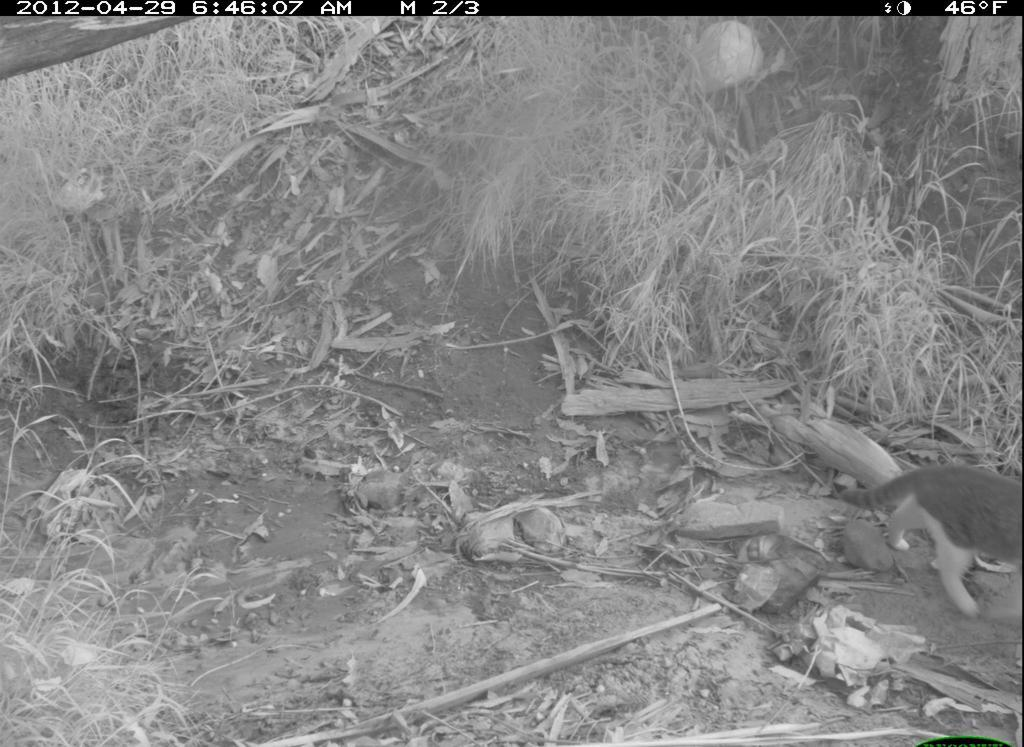cat: (834, 442, 1013, 619)
